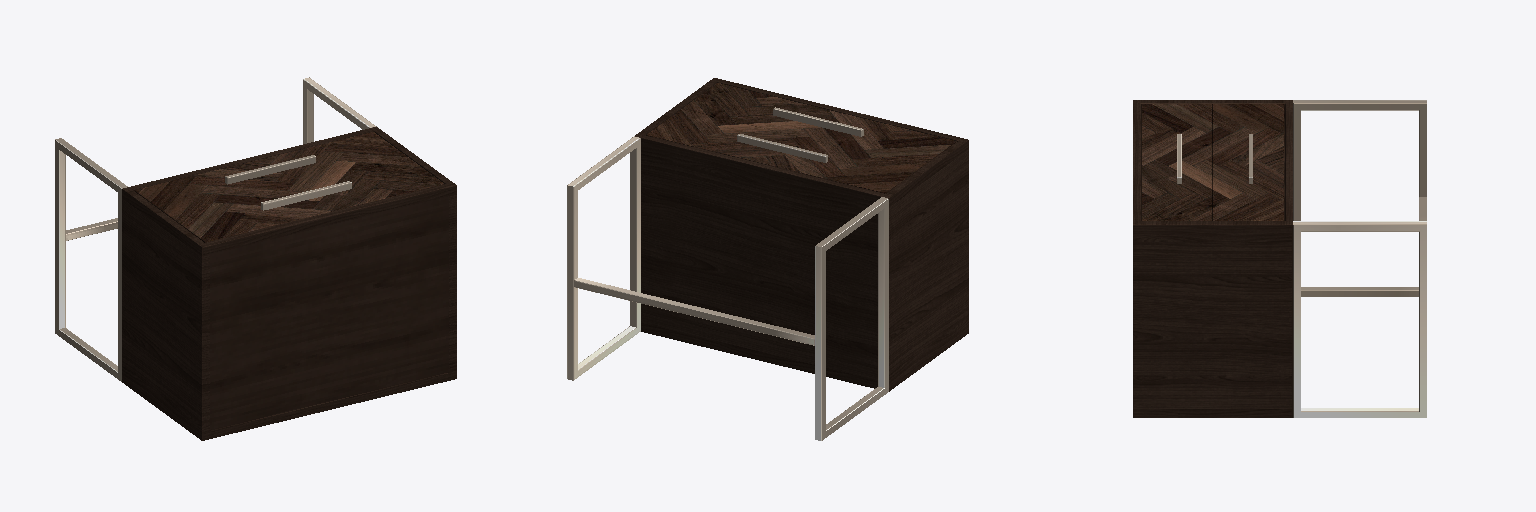
3 views of the same model, side by side, from view 1: azimuth 30°, elevation 25°; view 2: azimuth 150°, elevation 25°; view 3: azimuth 270°, elevation 25° (orthographic).
Bounding box in the file's own units: 0.55 × 0.4139 × 0.55.
1 materials, 1 textured.